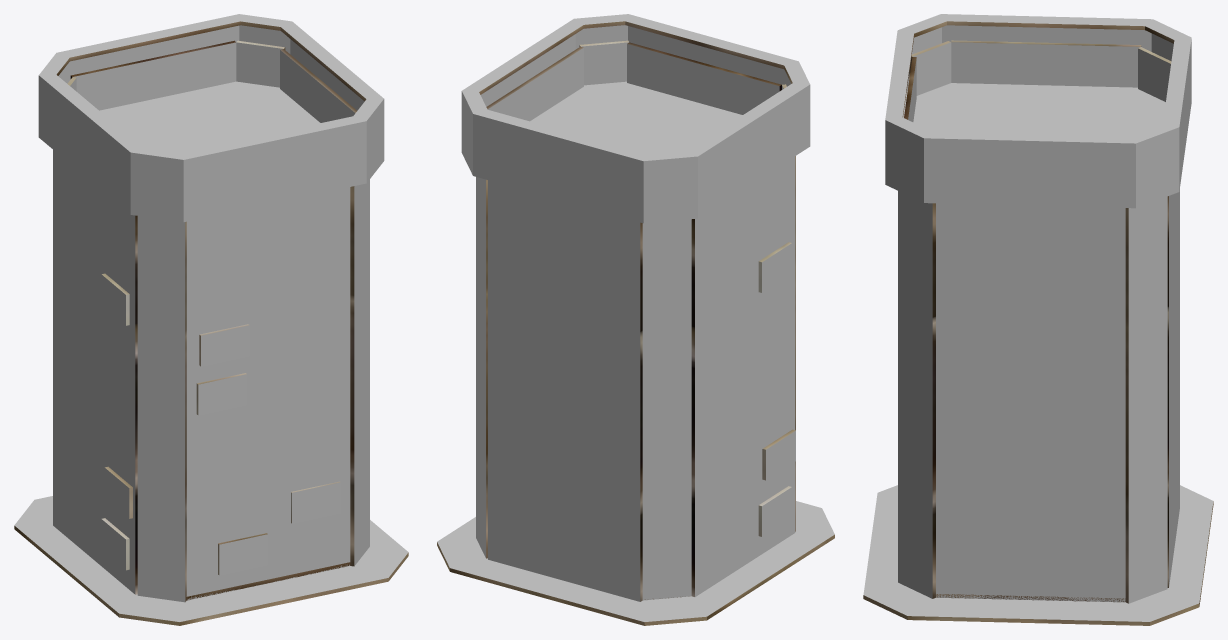
Rendered from Watchtower2.fbx.
The picture shows the model from 3 angles, left to right: view 1: azimuth 30°, elevation 25°; view 2: azimuth 150°, elevation 25°; view 3: azimuth 270°, elevation 25°; orthographic projection. The views are drawn at different scales.
Parts seen in each view (by area): view 1: Cube.016; view 2: Cube.016; view 3: Cube.016.
Boxes of the visible parts, bbox=[...] form: Cube.016: bbox=[14, 14, 408, 625]; Cube.016: bbox=[437, 14, 834, 625]; Cube.016: bbox=[863, 14, 1213, 625].
Bounding box in the file's own units: 1302 × 1942 × 1302.
